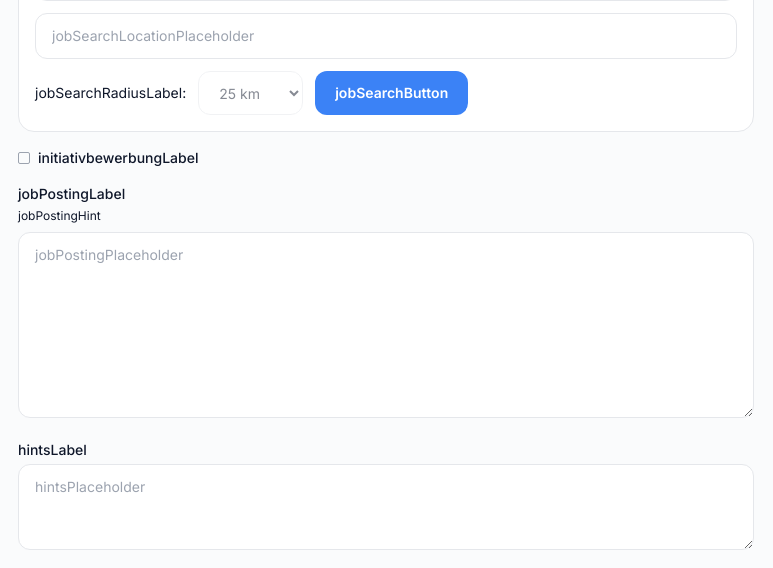
Test case: GenerateForm › Generierungsflow › zeigt Anschreiben und Lebenslauf getrennt nach erfolgreicher Generierung
In the text box labelled "jobPostingLabel": (386, 325) [18,232,754,418], type "Stelle"
(page scrolled)
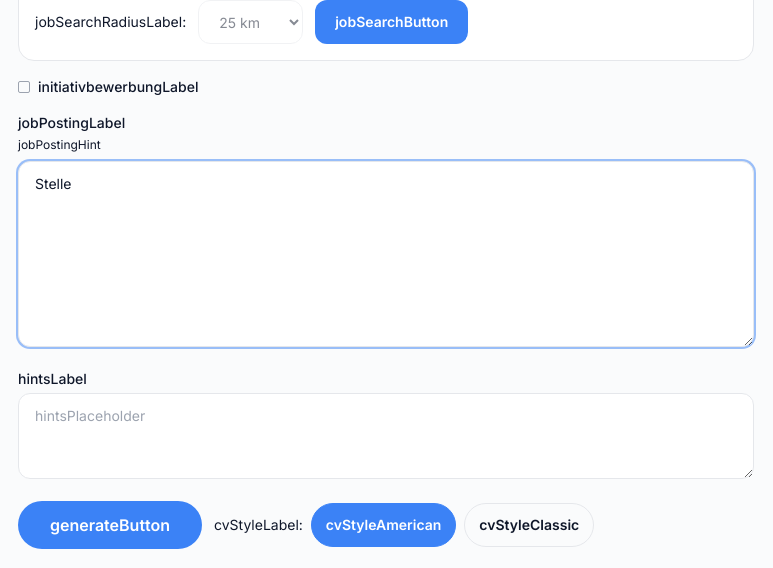
Click the button "generateButton": (110, 525) [18,501,202,549]
(page scrolled)
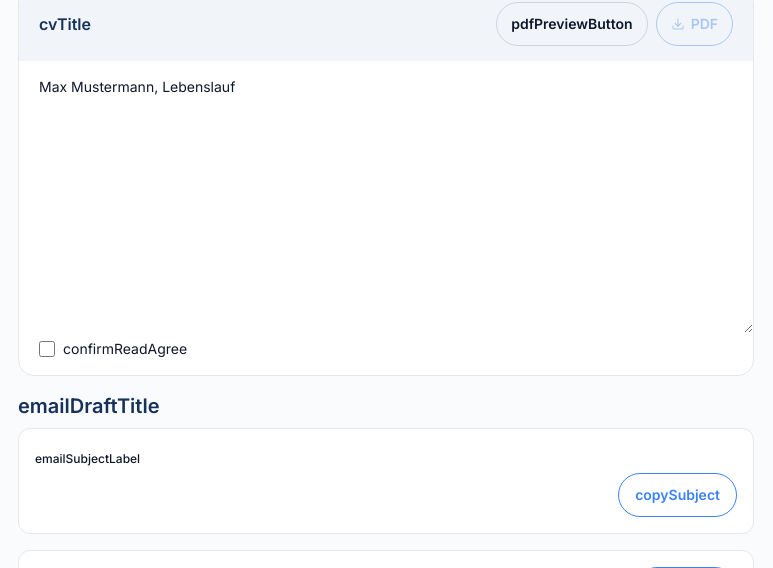
Expected: the text box showing "Max Mustermann, Lebenslauf" is shown, [19,61,753,333]
